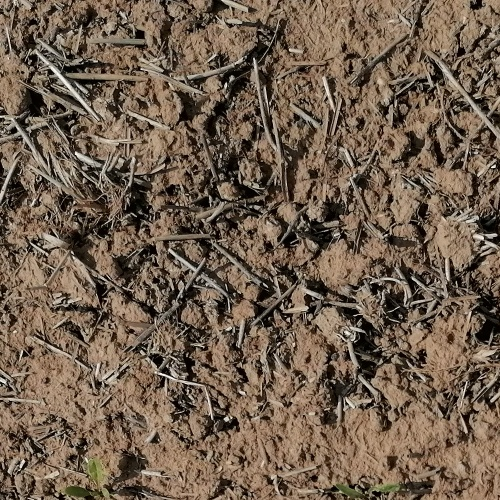beet: (62, 459, 112, 500), (333, 481, 404, 500)
